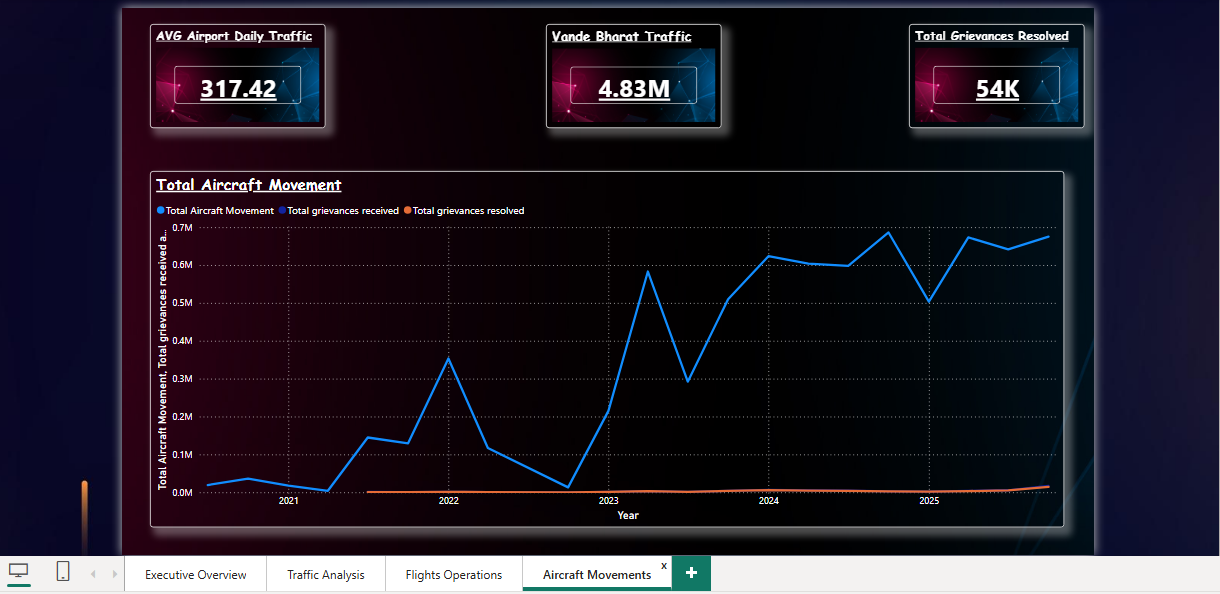

What the dashboard file says about the page in this screenshot:
{"tool":"powerbi","page":{"name":"Aircraft Movements","canvas":[1280,720],"ordinal":3},"visuals":[{"type":"lineChart","title":"Total Aircraft Movement","fields":{"Y":["fact daily traffic.Total Aircraft Movement","fact daily traffic.Total grievances received","fact daily traffic.Total grievances resolved"],"Category":["fact daily traffic.Date.Variation.Date Hierarchy.Year","fact daily traffic.Date.Variation.Date Hierarchy.Quarter","fact daily traffic.Date.Variation.Date Hierarchy.Month","fact daily traffic.Date.Variation.Date Hierarchy.Day"]},"box":[36.9,214,1203.3,469.1],"z":0},{"type":"cardVisual","title":"Total Grievances Resolved","fields":{"Data":["fact daily traffic.Total grievances resolved"]},"box":[1036.1,21.3,231,137.5],"z":1000},{"type":"cardVisual","title":"AVG Airport Daily Traffic","fields":{"Data":["fact daily traffic.AVG airport Daily Traffic"]},"box":[36.9,21.3,231,137.5],"z":2000},{"type":"cardVisual","title":"Vande Bharat Traffic","fields":{"Data":["fact daily traffic.AVG of Vande Bharat"]},"box":[558.4,21.3,231,137.5],"z":3000}]}

Visuals, with their boxes in screenshot pixels (x1, y1, x2, y2):
"Total Aircraft Movement" lineChart: {"left": 150, "top": 184, "right": 1094, "bottom": 552}
"Total Grievances Resolved" cardVisual: {"left": 934, "top": 33, "right": 1115, "bottom": 141}
"AVG Airport Daily Traffic" cardVisual: {"left": 150, "top": 33, "right": 331, "bottom": 141}
"Vande Bharat Traffic" cardVisual: {"left": 559, "top": 33, "right": 740, "bottom": 141}
